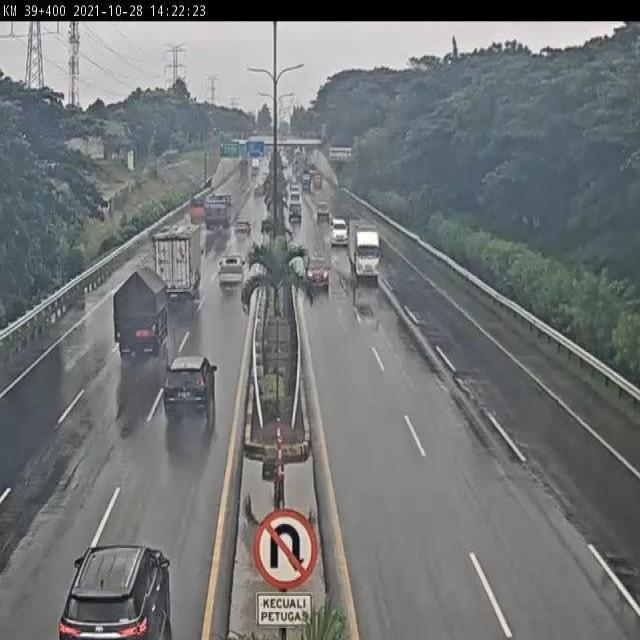car: (163, 356, 215, 419), (215, 254, 245, 298), (303, 251, 329, 285), (232, 216, 254, 241)
truck-l-: (152, 222, 202, 302), (205, 191, 232, 233)
truck-m-: (110, 269, 170, 360)
truck-s-: (344, 213, 382, 283)
